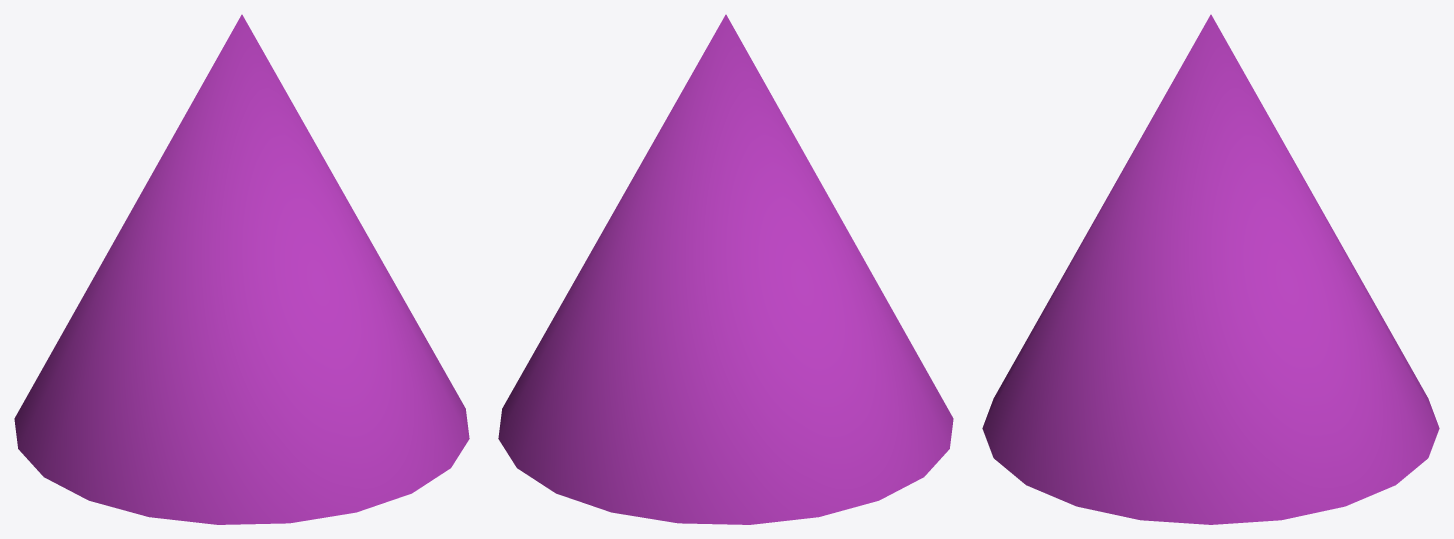
Rendered from PinkConeAnimation.gltf.
3 views of the same model, side by side, from view 1: azimuth 30°, elevation 25°; view 2: azimuth 150°, elevation 25°; view 3: azimuth 270°, elevation 25° (orthographic).
Visible parts, largest first — view 1: pCone1; view 2: pCone1; view 3: pCone1.
Part boxes in pixels (x1,y1,x2,y2): pCone1: [14, 14, 469, 524]; pCone1: [498, 14, 953, 524]; pCone1: [982, 14, 1439, 524].
Bounding box in the file's own units: 2 × 2 × 2.
